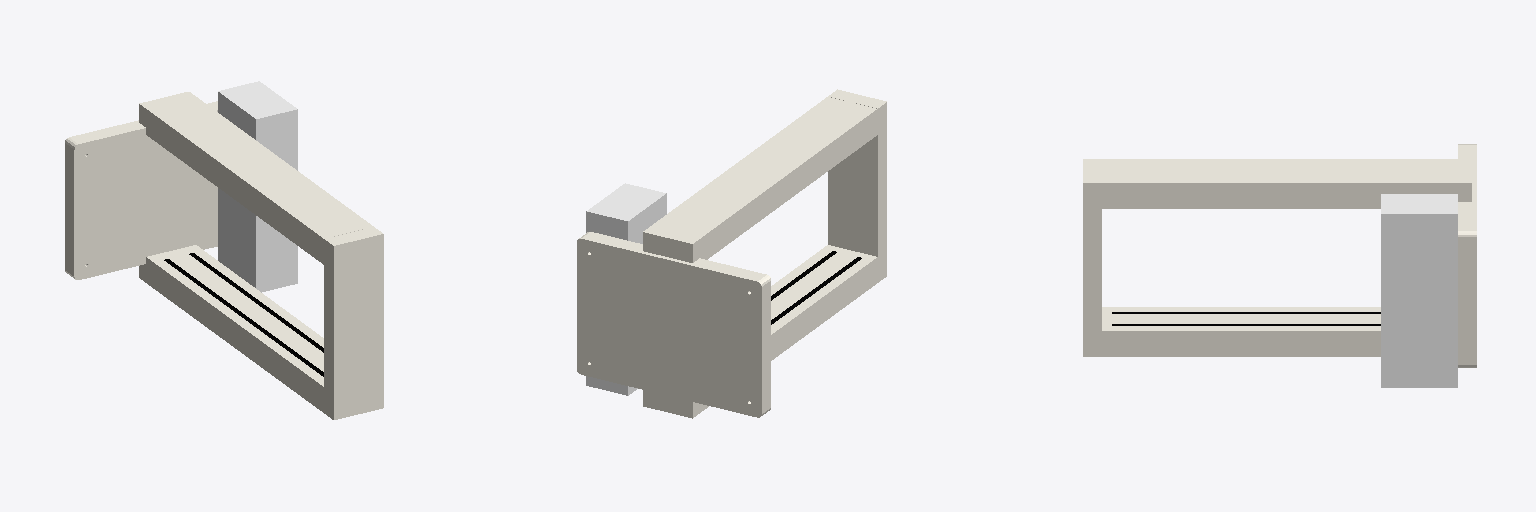
File: z-frame_s.obj
3 views of the same model, side by side, from view 1: azimuth 30°, elevation 25°; view 2: azimuth 150°, elevation 25°; view 3: azimuth 270°, elevation 25° (orthographic).
Parts seen in each view (by area): view 1: z-frame_s.001; view 2: z-frame_s.001; view 3: z-frame_s.001.
Part boxes in pixels (left/top/right/bottom): z-frame_s.001: left=65, top=81, right=383, bottom=419; z-frame_s.001: left=577, top=89, right=886, bottom=418; z-frame_s.001: left=1083, top=144, right=1476, bottom=387.
Size of the model in its own units: 1.11 by 1 by 2.05.